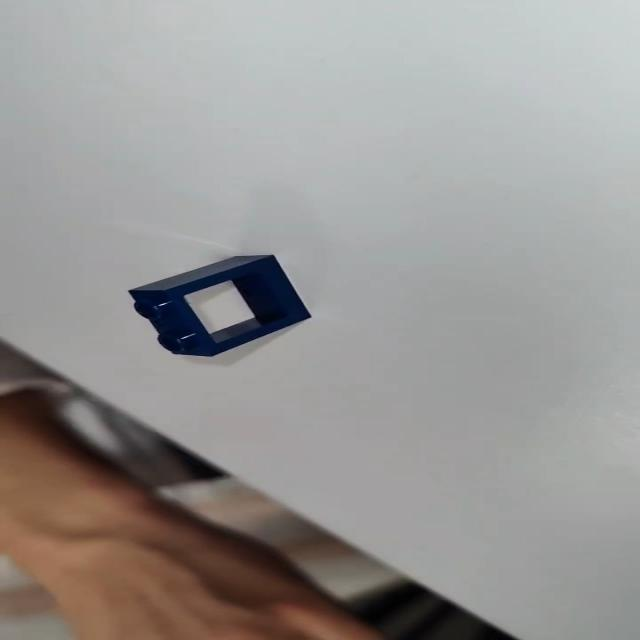W2x1x2: (120, 250, 316, 360)
